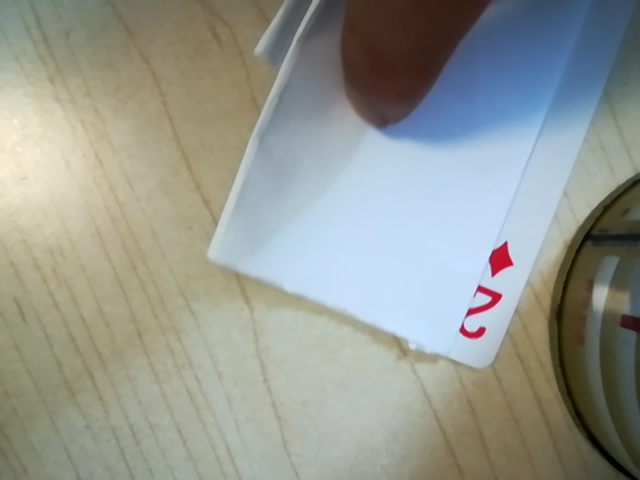fk 2: (447, 234, 520, 350)
